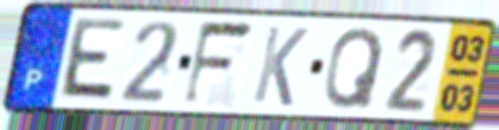2: (117, 19, 181, 105), (383, 27, 439, 115)
E: (54, 15, 129, 106)
F: (179, 18, 258, 110)
K: (249, 23, 311, 110)
Q: (321, 25, 388, 112)
